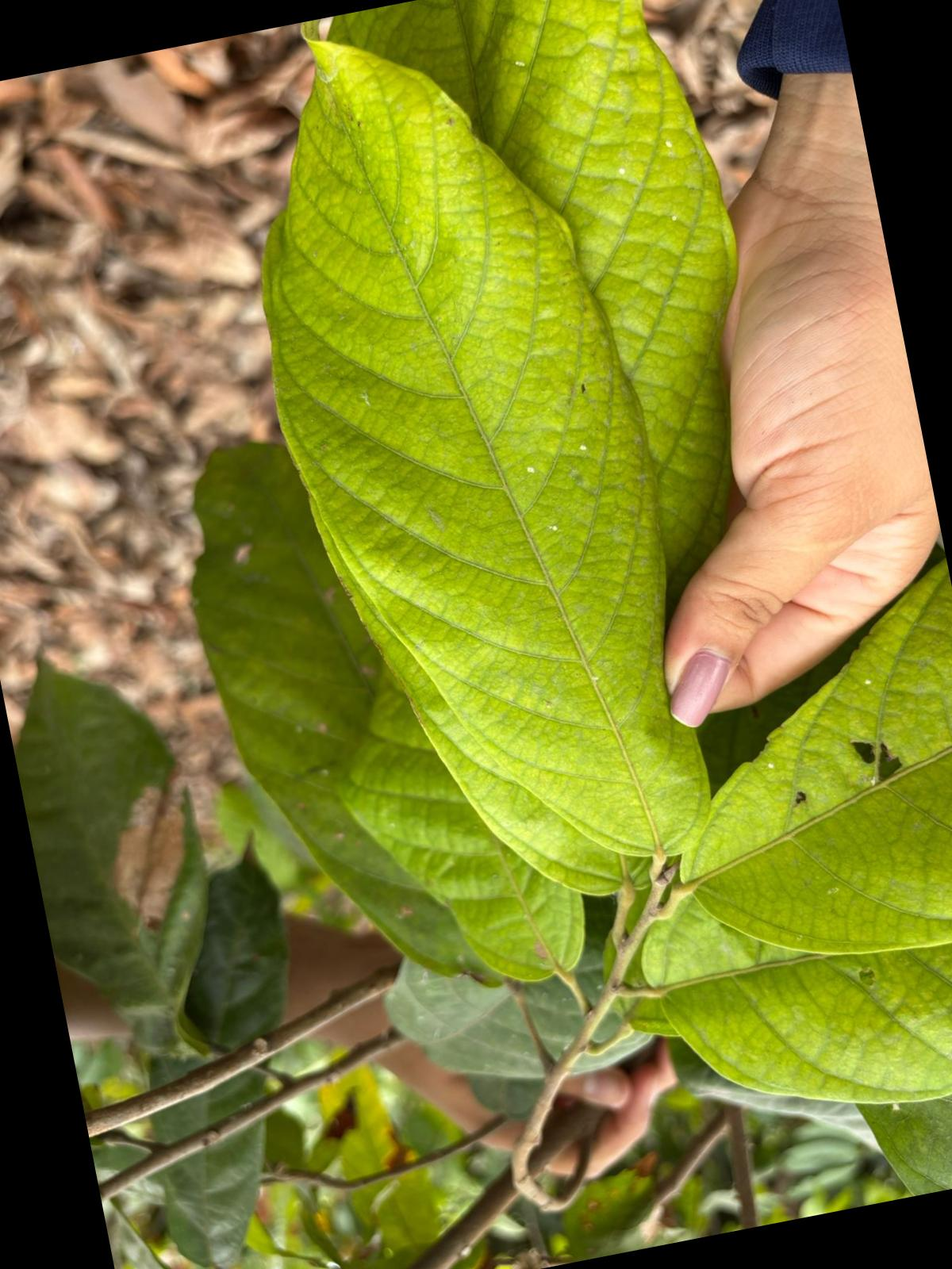Nitrogeno: (265, 30, 709, 856)
